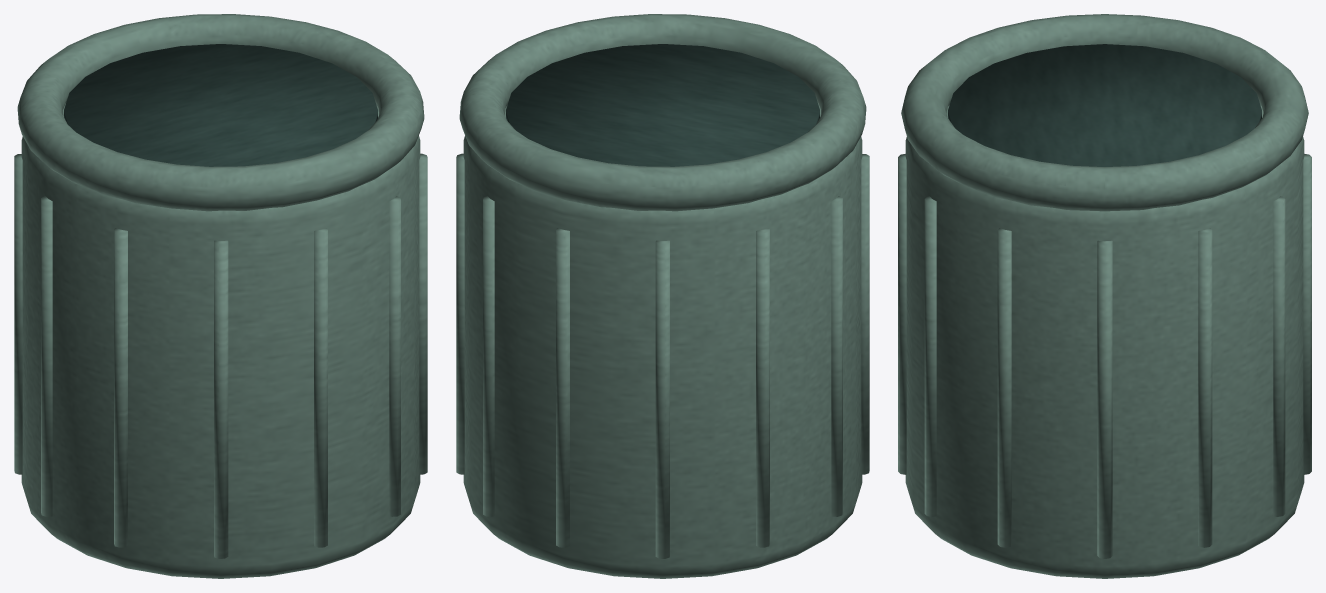
File: trash_can.glb
The picture shows the model from 3 angles, left to right: view 1: azimuth 30°, elevation 25°; view 2: azimuth 150°, elevation 25°; view 3: azimuth 270°, elevation 25°; orthographic projection.
Parts seen in each view (by area): view 1: trash_can_textured_mesh; view 2: trash_can_textured_mesh; view 3: trash_can_textured_mesh.
Part boxes in pixels (box(x1,y1,x2,y2)): trash_can_textured_mesh: box(14, 14, 427, 578); trash_can_textured_mesh: box(456, 14, 869, 578); trash_can_textured_mesh: box(898, 14, 1311, 578).
Bounding box in the file's own units: 1.37 × 1.49 × 1.37.
Materials: 1 (1 with a texture image).
